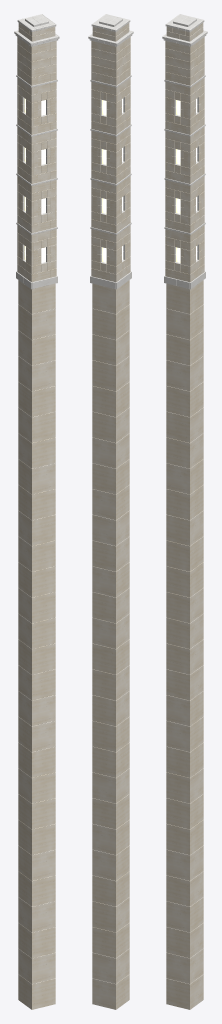
3 renders of one model, left to right at view 1: azimuth 30°, elevation 25°; view 2: azimuth 150°, elevation 25°; view 3: azimuth 330°, elevation 25°, orthographic.
Visible parts, largest first — view 1: Mesh_tower_gate; view 2: Mesh_tower_gate; view 3: Mesh_tower_gate.
Part boxes in pixels (x1,y1,x2,y2): Mesh_tower_gate: (14,14,59,1009); Mesh_tower_gate: (88,14,133,1009); Mesh_tower_gate: (162,14,207,1009).
Bounding box in the file's own units: 4.6 × 149 × 4.6.
1 material, 1 textured.
